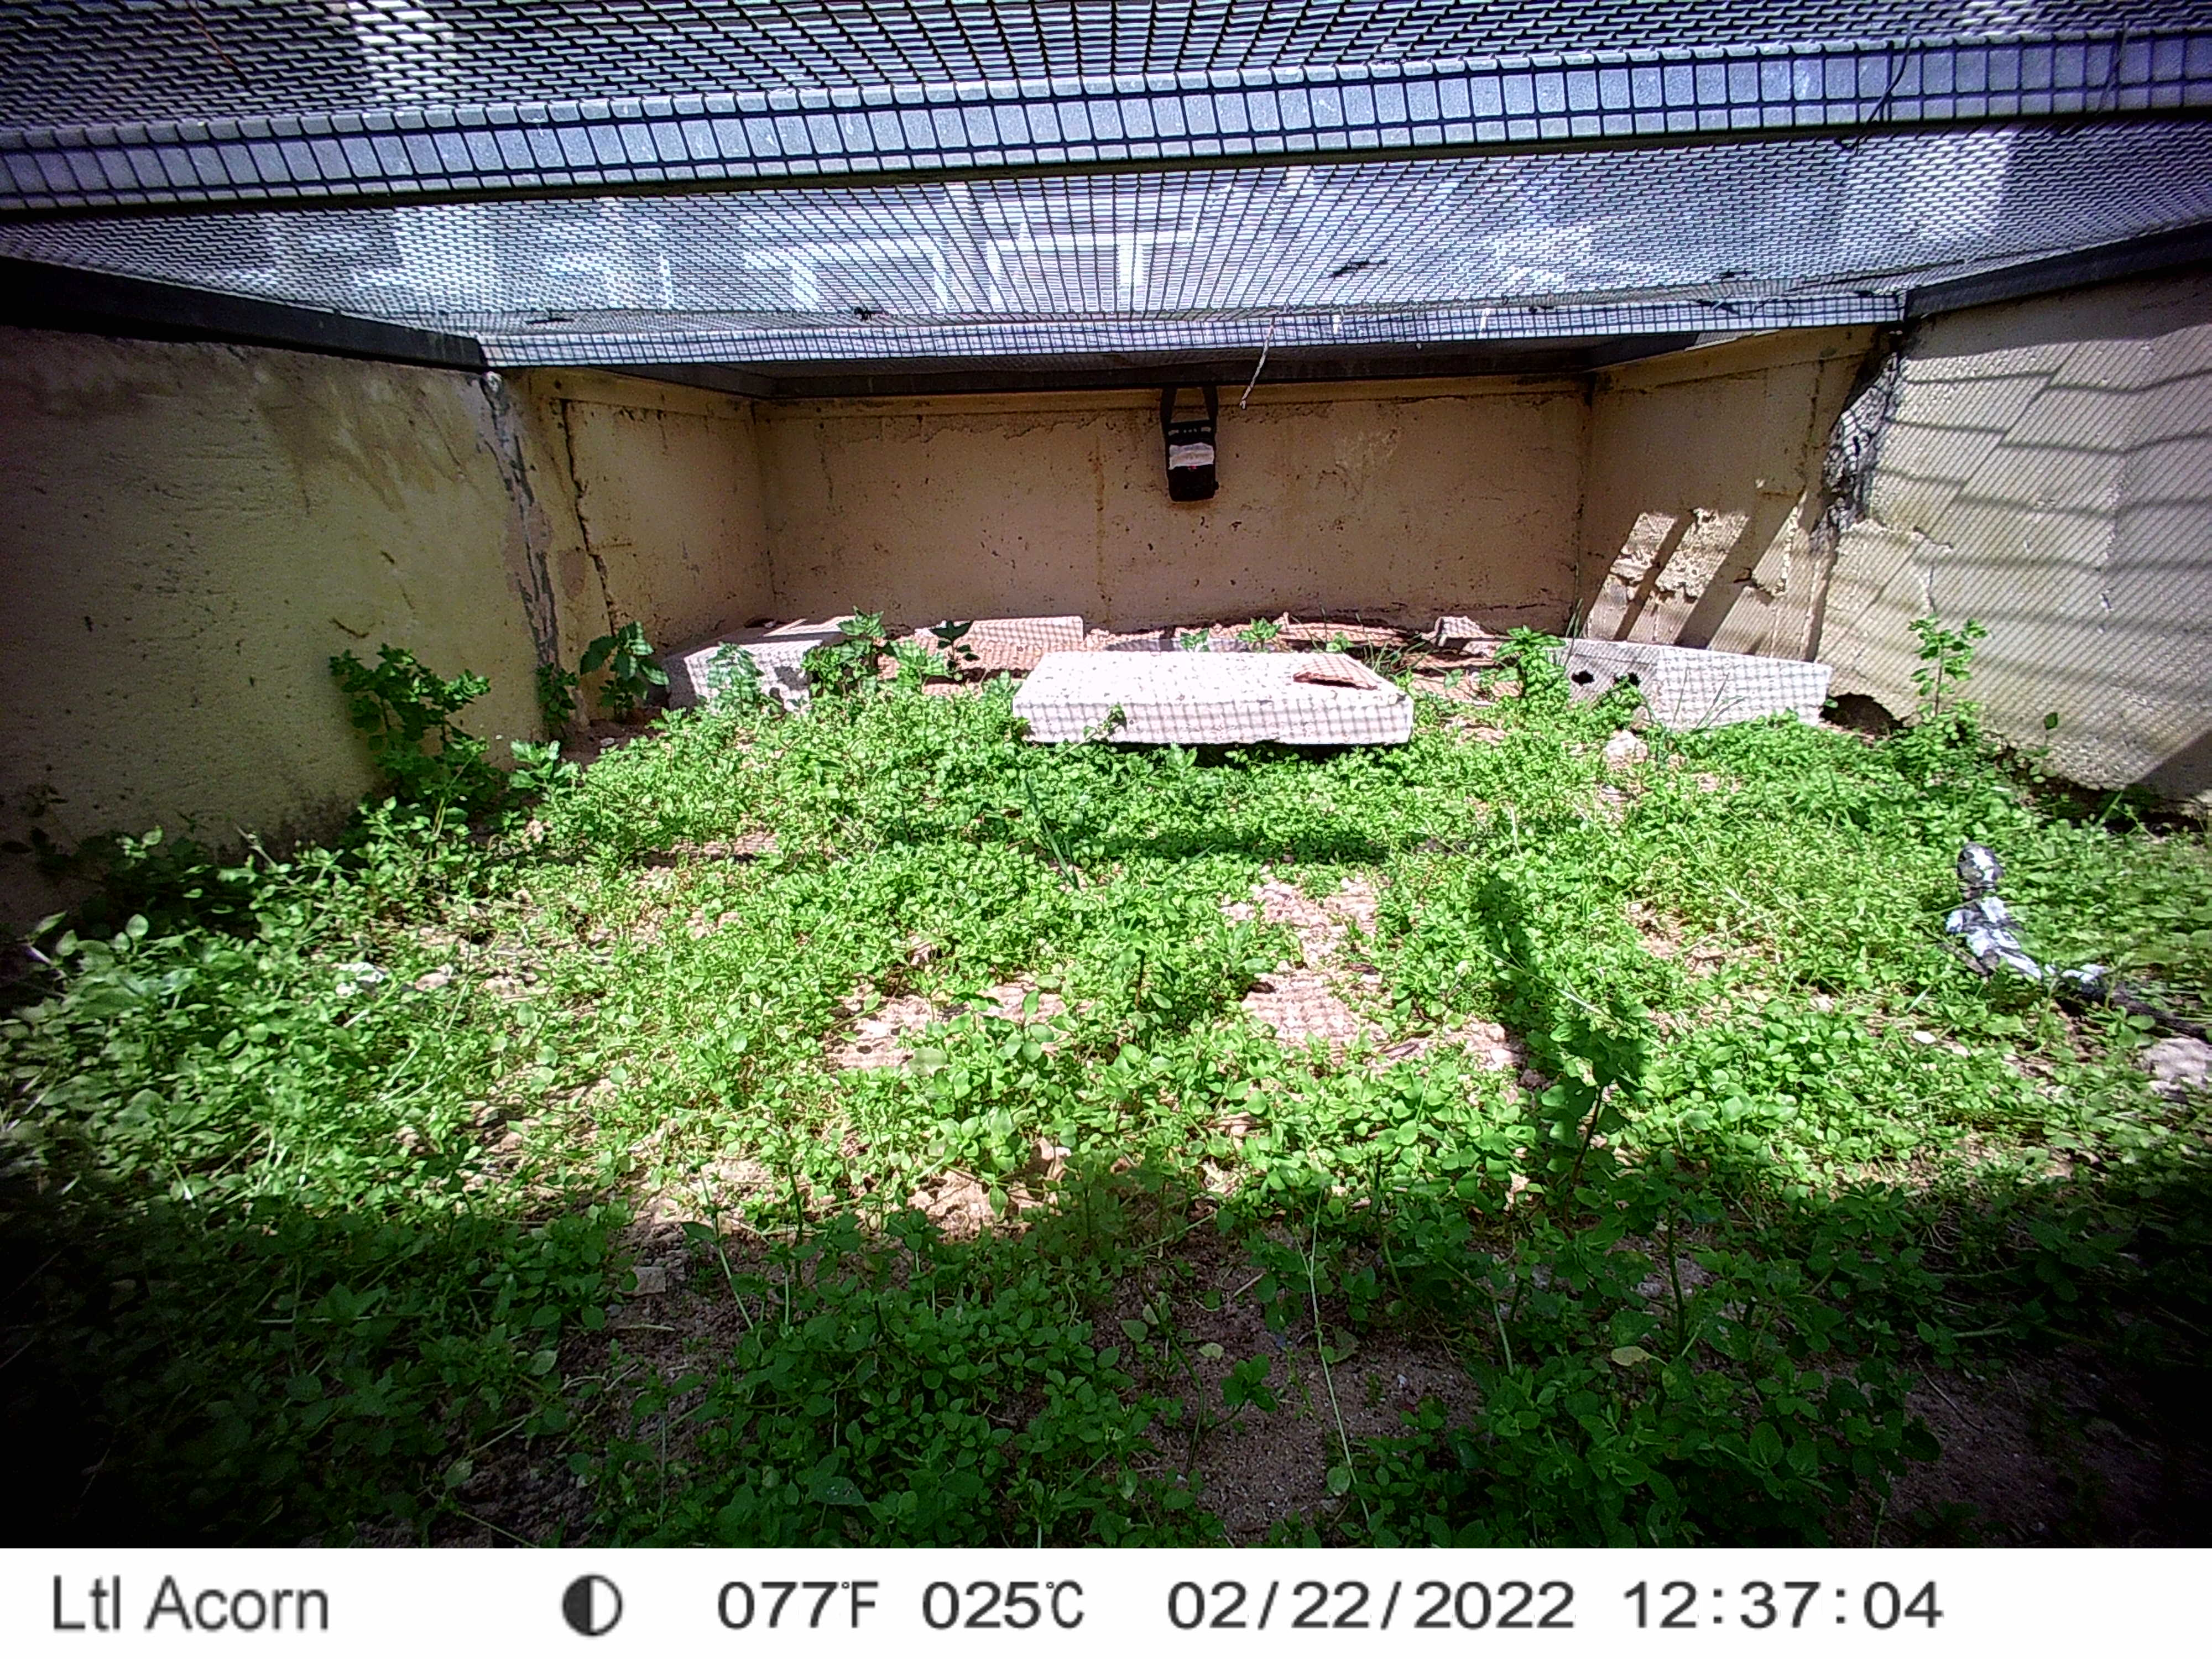lizard: (1940, 838, 2125, 1023)
